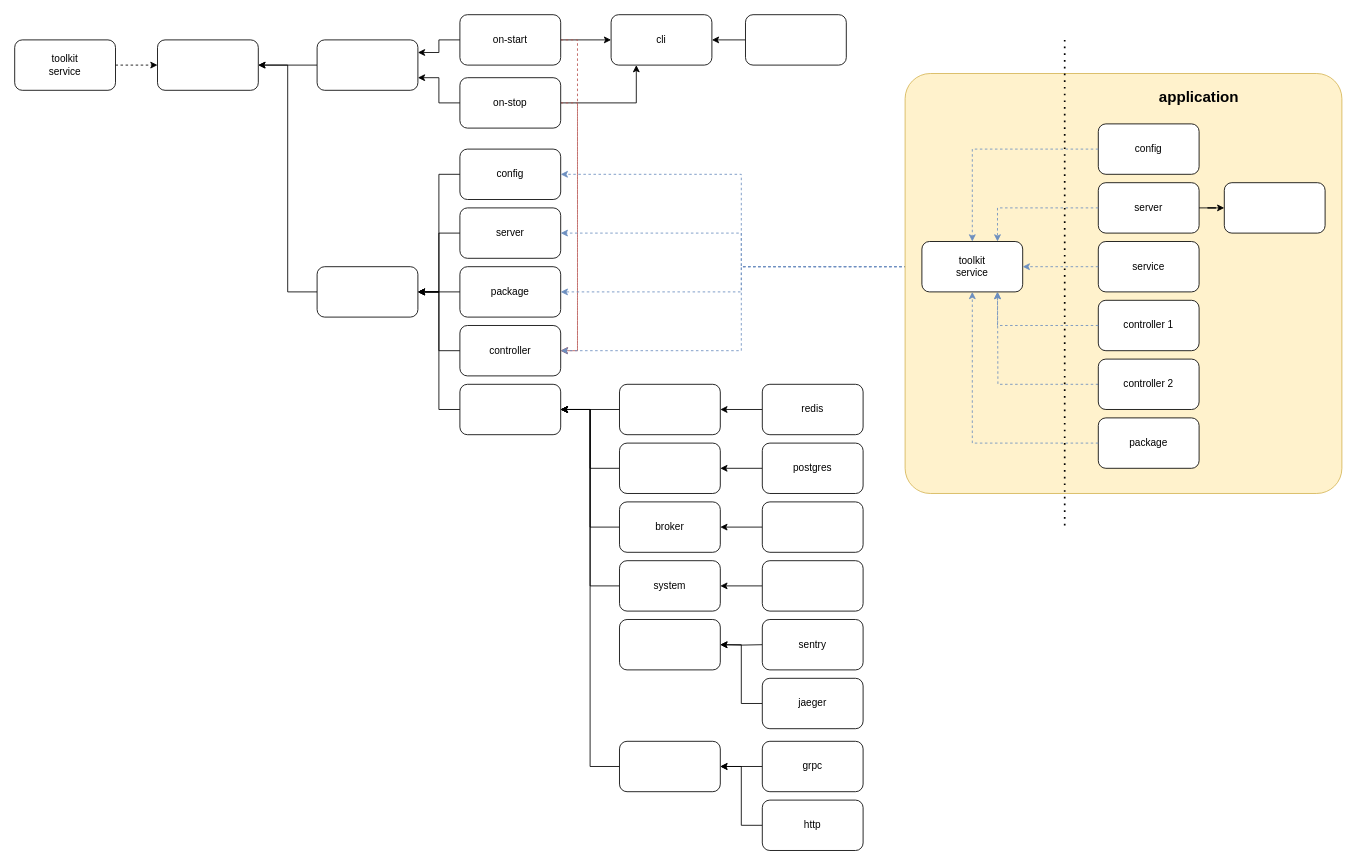
Image size: 1357x865. Some labels were removed from this diagram. The centre of each missing label's shape, as x and y in pixels:
"cache" goes at point 669,409.
"context" goes at point 795,39.
"database" goes at point 669,468.
"handler" goes at point 1274,207.
"lifecycle" goes at point 367,64.
"plugins" goes at point 510,409.
"provide" goes at point 367,291.
"rabbitmq" goes at point 812,526.
"resolver" goes at point 812,585.
"transport" goes at point 669,766.
"uber-go/fx" goes at point 207,64.
"utils" goes at point 669,644.
